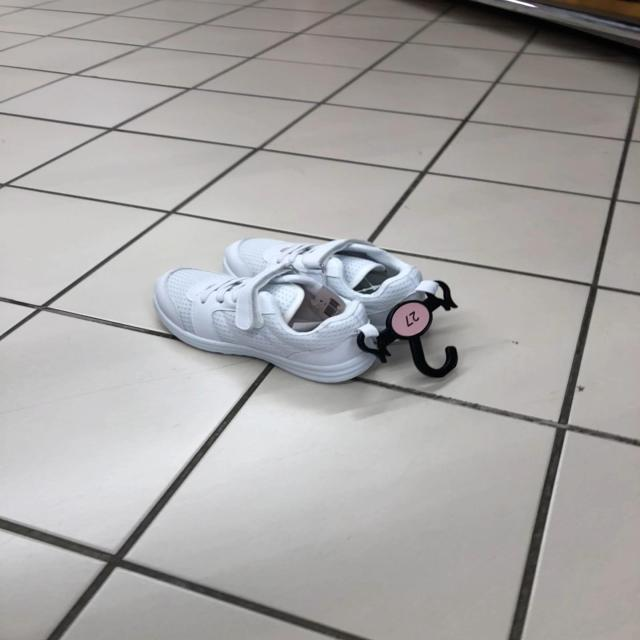shoe: (157, 267, 382, 380), (226, 234, 431, 323)
